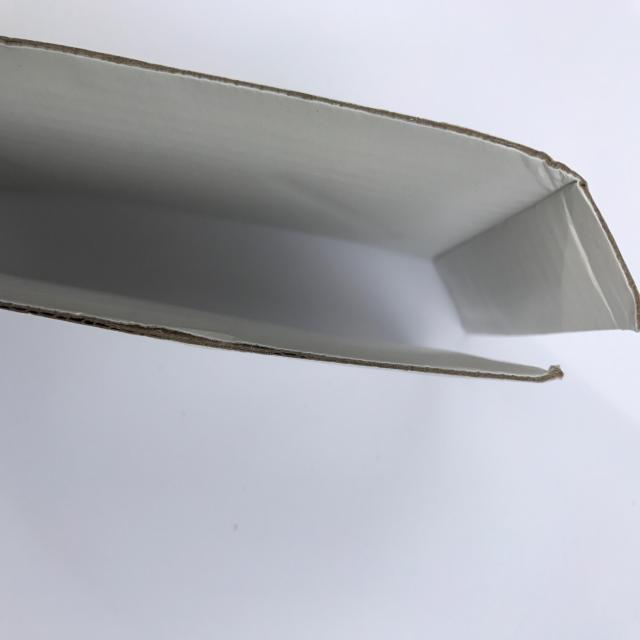cardboard: (0, 34, 639, 382)
